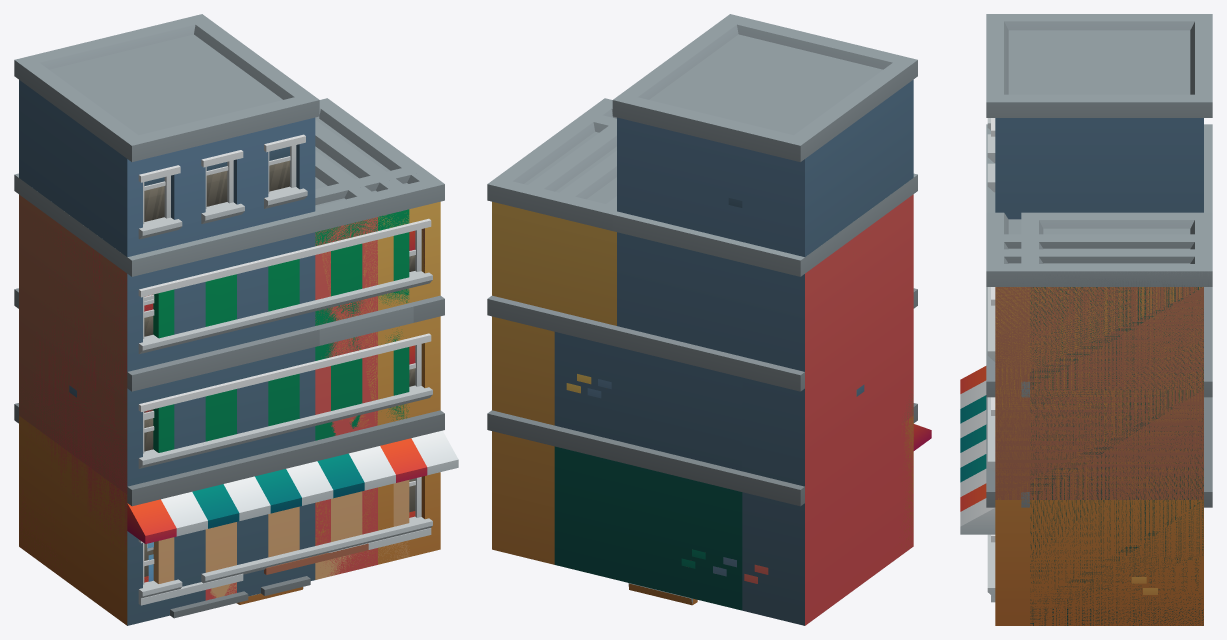
File: props-city.glb
The picture shows the model from 3 angles, left to right: view 1: azimuth 30°, elevation 25°; view 2: azimuth 150°, elevation 25°; view 3: azimuth 270°, elevation 25°; orthographic projection. The views are drawn at different scales.
Visible parts, largest first — view 1: building_H_withoutBase, building_E_withoutBase, building_D_withoutBase, building_F_withoutBase, building_A_withoutBase, building_C_withoutBase, building_B_withoutBase, building_G_withoutBase; view 2: building_H_withoutBase, building_F_withoutBase, building_A_withoutBase, building_D_withoutBase, building_E_withoutBase, building_C_withoutBase; view 3: building_E_withoutBase, building_H_withoutBase, building_F_withoutBase, building_G_withoutBase, building_D_withoutBase, building_C_withoutBase, building_A_withoutBase.
Part boxes in pixels (box(x1,y1,x2,y2)): building_H_withoutBase: box(14, 14, 426, 625); building_E_withoutBase: box(14, 118, 458, 625); building_D_withoutBase: box(153, 120, 411, 611); building_F_withoutBase: box(14, 109, 444, 600); building_A_withoutBase: box(192, 314, 395, 605); building_C_withoutBase: box(202, 150, 381, 608); building_B_withoutBase: box(170, 306, 413, 618); building_G_withoutBase: box(128, 121, 390, 581); building_H_withoutBase: box(487, 14, 917, 625); building_F_withoutBase: box(529, 98, 915, 625); building_A_withoutBase: box(554, 332, 742, 610); building_D_withoutBase: box(519, 126, 773, 367); building_E_withoutBase: box(487, 98, 931, 548); building_C_withoutBase: box(550, 150, 712, 351); building_E_withoutBase: box(960, 219, 1212, 625); building_H_withoutBase: box(986, 14, 1212, 594); building_F_withoutBase: box(986, 219, 1212, 625); building_G_withoutBase: box(1021, 220, 1212, 625); building_D_withoutBase: box(986, 212, 1212, 446); building_C_withoutBase: box(986, 213, 1210, 554); building_A_withoutBase: box(960, 395, 995, 496).
Size of the model in its own units: 2.01 by 3.11 by 1.45.
1 material, 1 textured.
